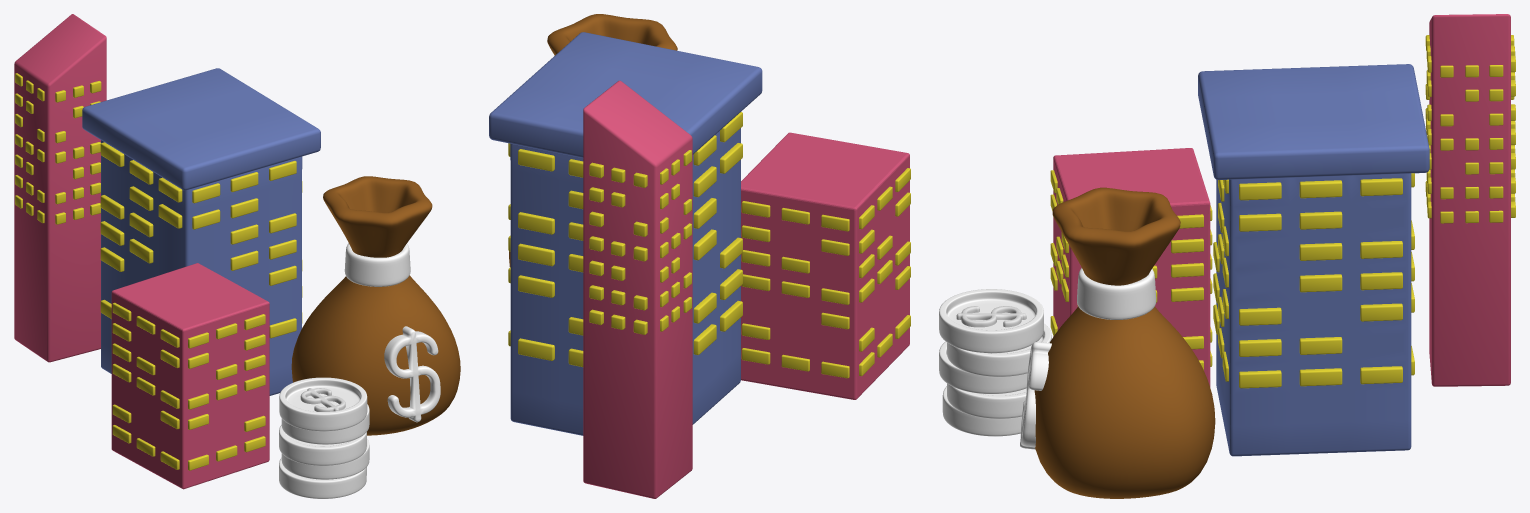
File: venture-capital-3d-animated-icon-304962893381.glb
The picture shows the model from 3 angles, left to right: view 1: azimuth 30°, elevation 25°; view 2: azimuth 150°, elevation 25°; view 3: azimuth 270°, elevation 25°; orthographic projection. The views are drawn at different scales.
Visible parts, largest first — view 1: Cube.084, Cube.073, Cube.080, Cube.068, Cube.072, Cube.070, Cube.074, Cylinder.017, Cube.075, Cylinder.019, Cylinder.021, Cylinder.020 (+1 smaller); view 2: Cube.080, Cube.073, Cube.068, Cube.072, Cube.070, Cube.074, Cube.075, Cube.084; view 3: Cube.068, Cube.084, Cube.080, Cube.072, Cube.070, Cube.073, Cylinder.017, Cube.075, Cube.074, Cylinder.018, Cylinder.020, Cylinder.019 (+1 smaller).
Boxes of the visible parts, x1,y1,x2,y2 form: Cube.084: [291, 176, 460, 435]; Cube.073: [111, 263, 269, 489]; Cube.080: [14, 14, 106, 362]; Cube.068: [101, 140, 302, 395]; Cube.072: [82, 68, 320, 190]; Cube.070: [100, 142, 302, 338]; Cube.074: [112, 302, 265, 470]; Cylinder.017: [279, 377, 367, 431]; Cube.075: [15, 73, 101, 224]; Cylinder.019: [279, 425, 366, 465]; Cylinder.021: [279, 458, 366, 498]; Cylinder.020: [281, 439, 369, 479]; Cube.080: [583, 80, 692, 498]; Cube.073: [741, 132, 909, 399]; Cube.068: [510, 128, 740, 435]; Cube.072: [489, 32, 762, 157]; Cube.070: [508, 112, 742, 366]; Cube.074: [741, 168, 910, 378]; Cube.075: [589, 150, 691, 334]; Cube.084: [509, 14, 677, 266]; Cube.068: [1216, 173, 1411, 456]; Cube.084: [1020, 187, 1215, 498]; Cube.080: [1429, 14, 1510, 386]; Cube.072: [1198, 64, 1429, 179]; Cube.070: [1213, 173, 1414, 388]; Cube.073: [1053, 148, 1210, 387]; Cylinder.017: [939, 289, 1043, 353]; Cube.075: [1425, 35, 1515, 223]; Cube.074: [1050, 170, 1212, 370]; Cylinder.018: [947, 323, 1051, 376]; Cylinder.020: [947, 383, 1026, 418]; Cylinder.019: [939, 341, 1027, 393].
Bounding box in the file's own units: 8.14 × 8.08 × 11.06.
